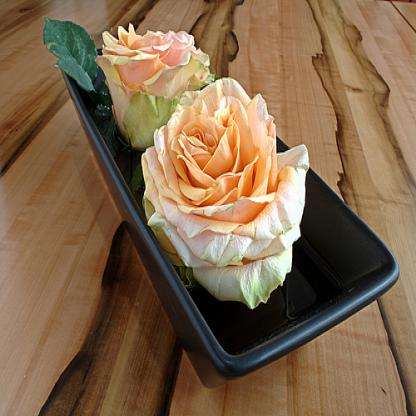ROSE-MAWAR: (37, 6, 347, 313)
